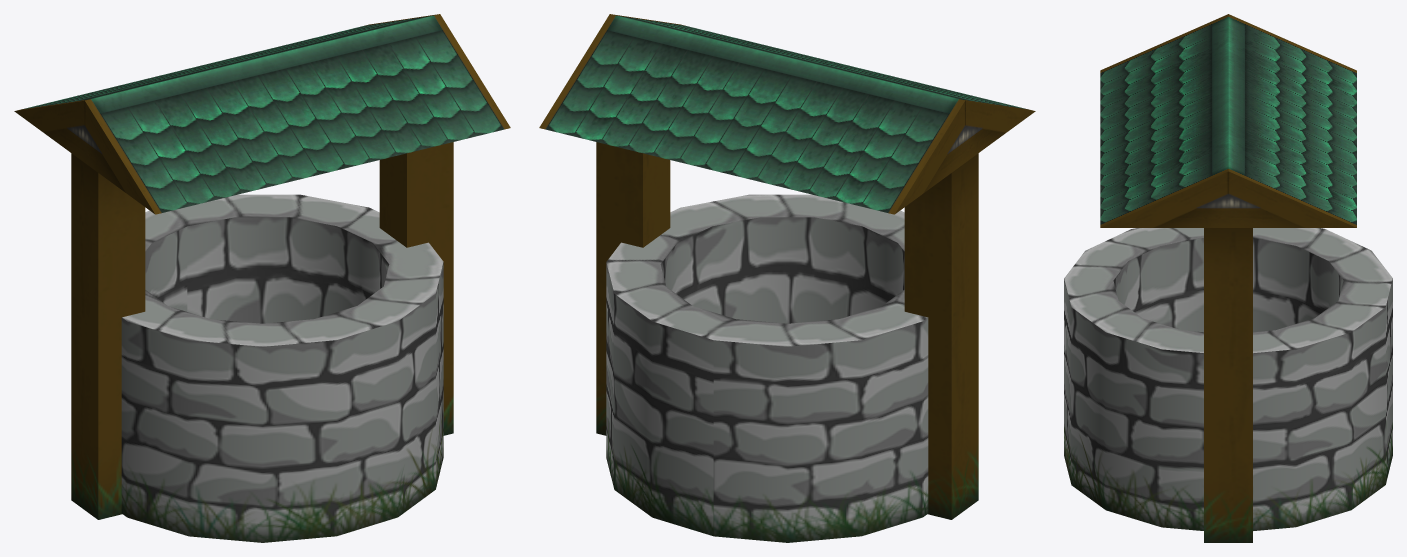
File: SM_Well.fbx
3 views of the same model, side by side, from view 1: azimuth 30°, elevation 25°; view 2: azimuth 150°, elevation 25°; view 3: azimuth 270°, elevation 25° (orthographic). The views are drawn at different scales.
Parts seen in each view (by area): view 1: Well; view 2: Well; view 3: Well.
Part boxes in pixels (x1,y1,x2,y2): Well: (14, 14, 510, 542); Well: (539, 14, 1035, 542); Well: (1064, 14, 1392, 542).
Bounding box in the file's own units: 464 × 511 × 409.
